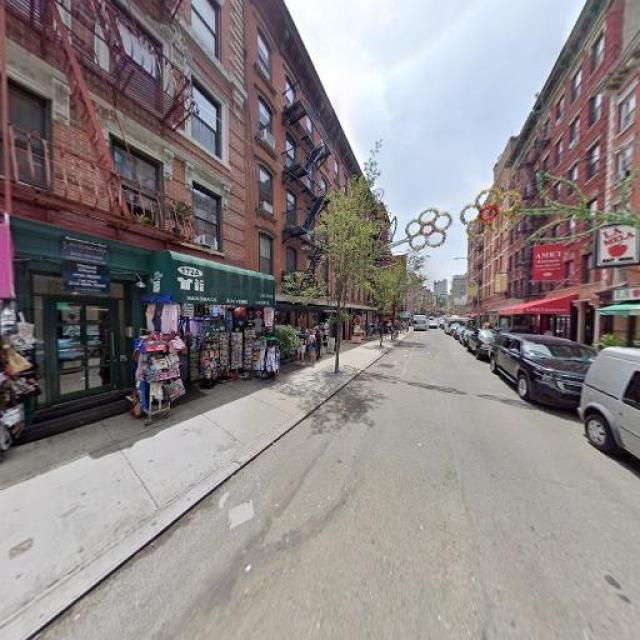Building: (62, 1, 247, 415), (249, 1, 374, 365), (514, 1, 603, 365), (1, 1, 54, 432), (610, 42, 640, 374), (487, 168, 509, 339), (472, 218, 482, 333)
